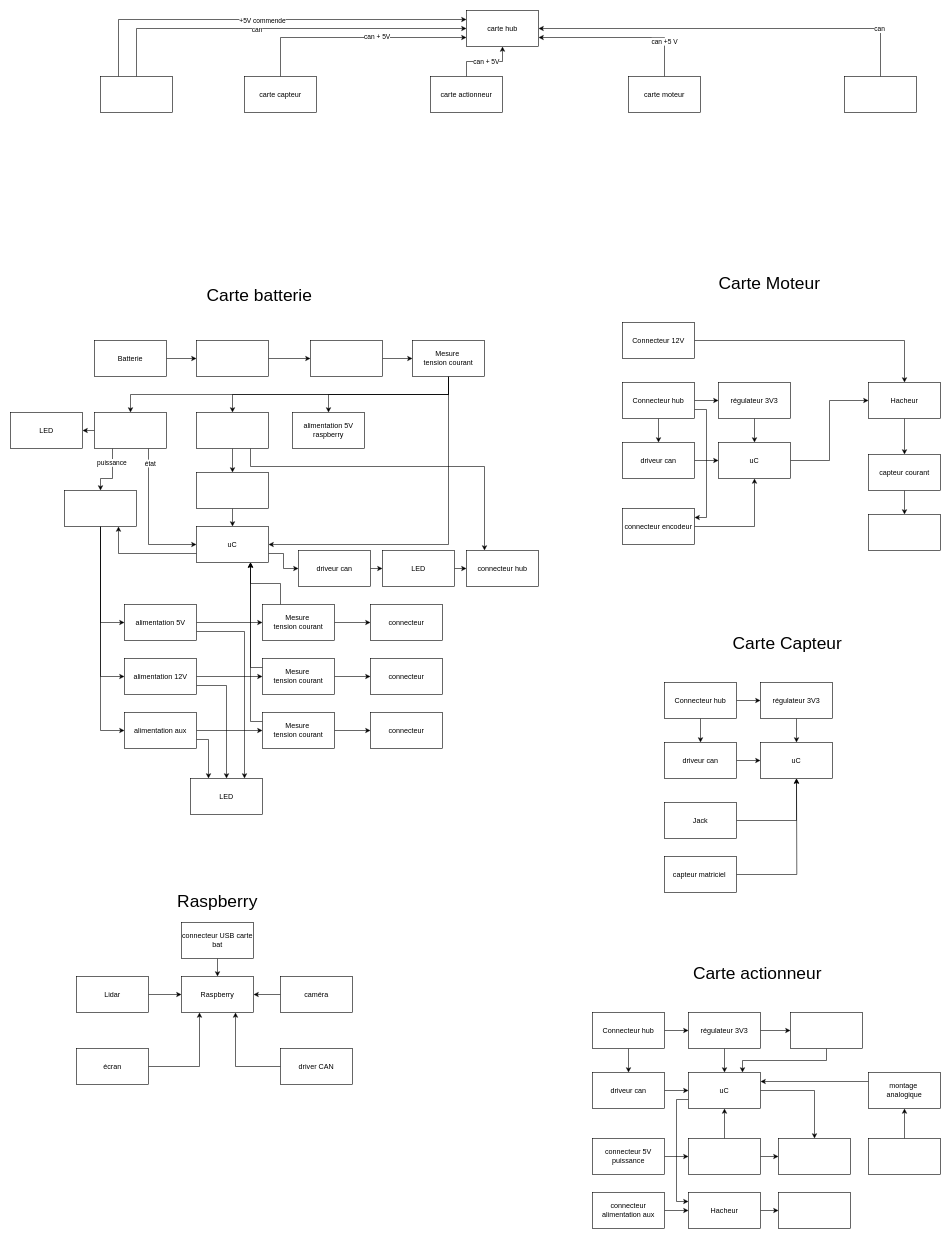
This 951x1239 diagram has some shape labels left out. Here are the shapes that lost their labels. From the top down, the centre of each, then its label:
the point at 136,94: carte bat/alim
the point at 880,94: Raspeberry
the point at 232,358: switch on/off
the point at 346,358: afficheur tension courant
the point at 130,430: arrêt d'urgence
the point at 232,430: alimentation 5V commende
the point at 100,508: sectionneur piloter électriquement
the point at 232,490: alimentation 3V3
the point at 904,532: connecteur moteur x2
the point at 826,1030: fin de cource
the point at 724,1156: mesure courant
the point at 814,1156: cerveau moteur
the point at 904,1156: jauge de contrainte
the point at 814,1210: moteur pas à pas
